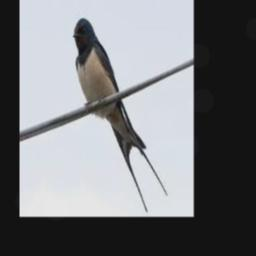Swallow: (72, 18, 167, 211)
